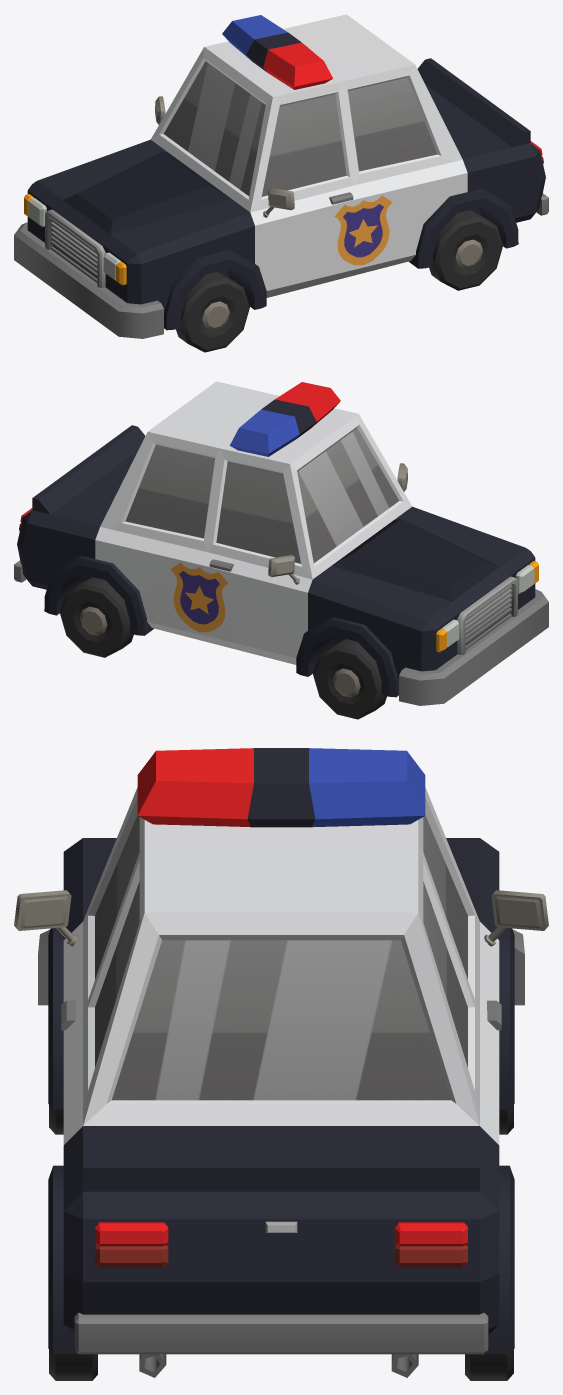
File: Car_Police_2_A_1.gltf
The picture shows the model from 3 angles, top to bottom: view 1: azimuth 30°, elevation 25°; view 2: azimuth 150°, elevation 25°; view 3: azimuth 270°, elevation 25°; orthographic projection. The views are drawn at different scales.
Visible parts, largest first — view 1: Car_Police_2_A_1, RL, FL; view 2: Car_Police_2_A_1, RR, FR; view 3: Car_Police_2_A_1, RL, RR.
Part boxes in pixels (x1,y1,x2,y2): Car_Police_2_A_1: [14, 14, 548, 338]; RL: [429, 210, 503, 290]; FL: [176, 272, 249, 352]; Car_Police_2_A_1: [14, 381, 548, 705]; RR: [59, 577, 133, 657]; FR: [313, 639, 386, 719]; Car_Police_2_A_1: [14, 748, 548, 1377]; RL: [49, 1349, 97, 1380]; RR: [465, 1349, 513, 1380].
Bounding box in the file's own units: 3.31 × 1.75 × 1.78.
Materials: 3 (3 with a texture image).
